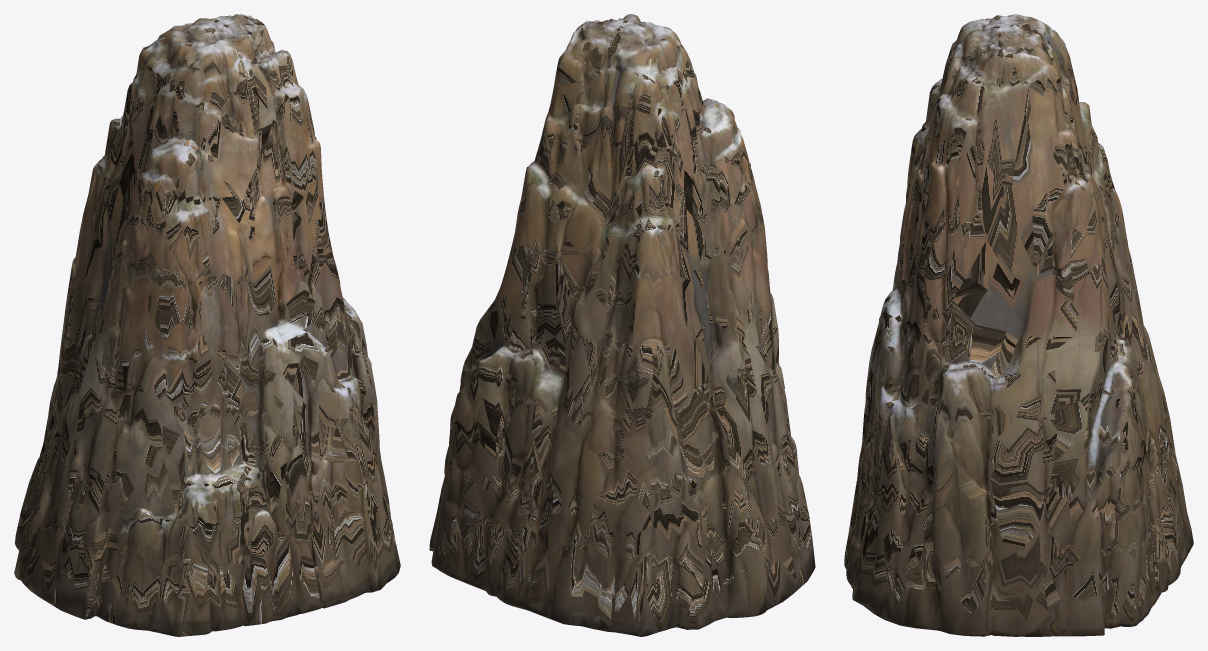
File: Sentinel_Peak.glb
3 renders of one model, left to right at view 1: azimuth 30°, elevation 25°; view 2: azimuth 150°, elevation 25°; view 3: azimuth 270°, elevation 25°, orthographic. The views are drawn at different scales.
Parts seen in each view (by area): view 1: Sentinel_Peak; view 2: Sentinel_Peak; view 3: Sentinel_Peak.
Part boxes in pixels (left/top/right/bottom): Sentinel_Peak: left=14, top=14, right=400, bottom=636; Sentinel_Peak: left=429, top=14, right=815, bottom=636; Sentinel_Peak: left=844, top=14, right=1193, bottom=636.
Size of the model in its own units: 1.28 by 1.99 by 1.17.
1 material, 1 textured.
